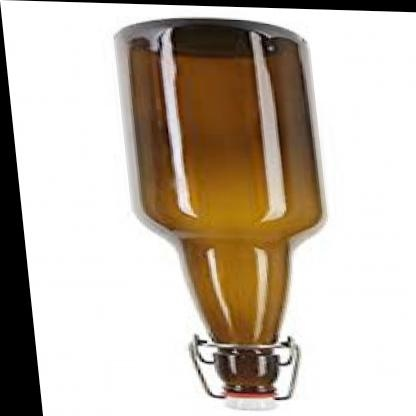trash: (124, 20, 321, 398)
